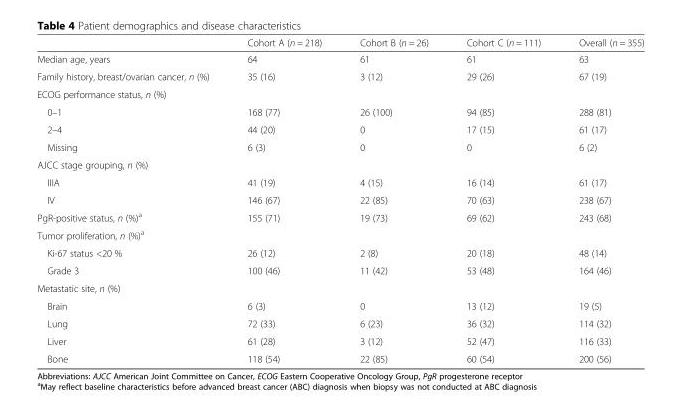table: (36, 36, 643, 364)
table column: (36, 36, 227, 364), (227, 36, 340, 364), (446, 36, 559, 364), (340, 36, 446, 364), (559, 36, 643, 364)
table column header: (36, 36, 643, 50)
table projected row header: (36, 155, 643, 173), (36, 225, 643, 243), (36, 85, 643, 102), (36, 279, 643, 296)
table row: (36, 67, 643, 85), (36, 102, 643, 120), (36, 120, 643, 138), (36, 155, 643, 173), (36, 207, 643, 225), (36, 225, 643, 243), (36, 243, 643, 261), (36, 261, 643, 279), (36, 296, 643, 314), (36, 314, 643, 332), (36, 50, 643, 67), (36, 85, 643, 102), (36, 138, 643, 155), (36, 173, 643, 190), (36, 190, 643, 207), (36, 279, 643, 296), (36, 332, 643, 349), (36, 349, 643, 364), (36, 36, 643, 50)
